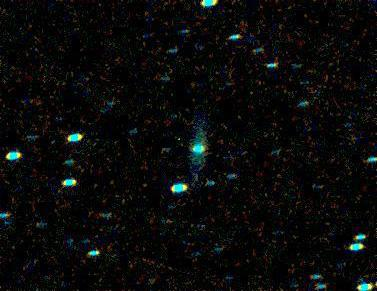star: (297, 59, 327, 89)
